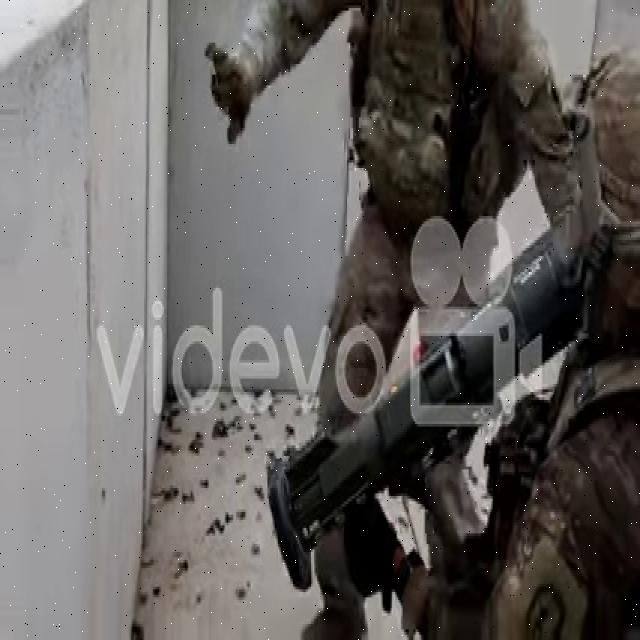bazooka: (266, 186, 611, 600)
